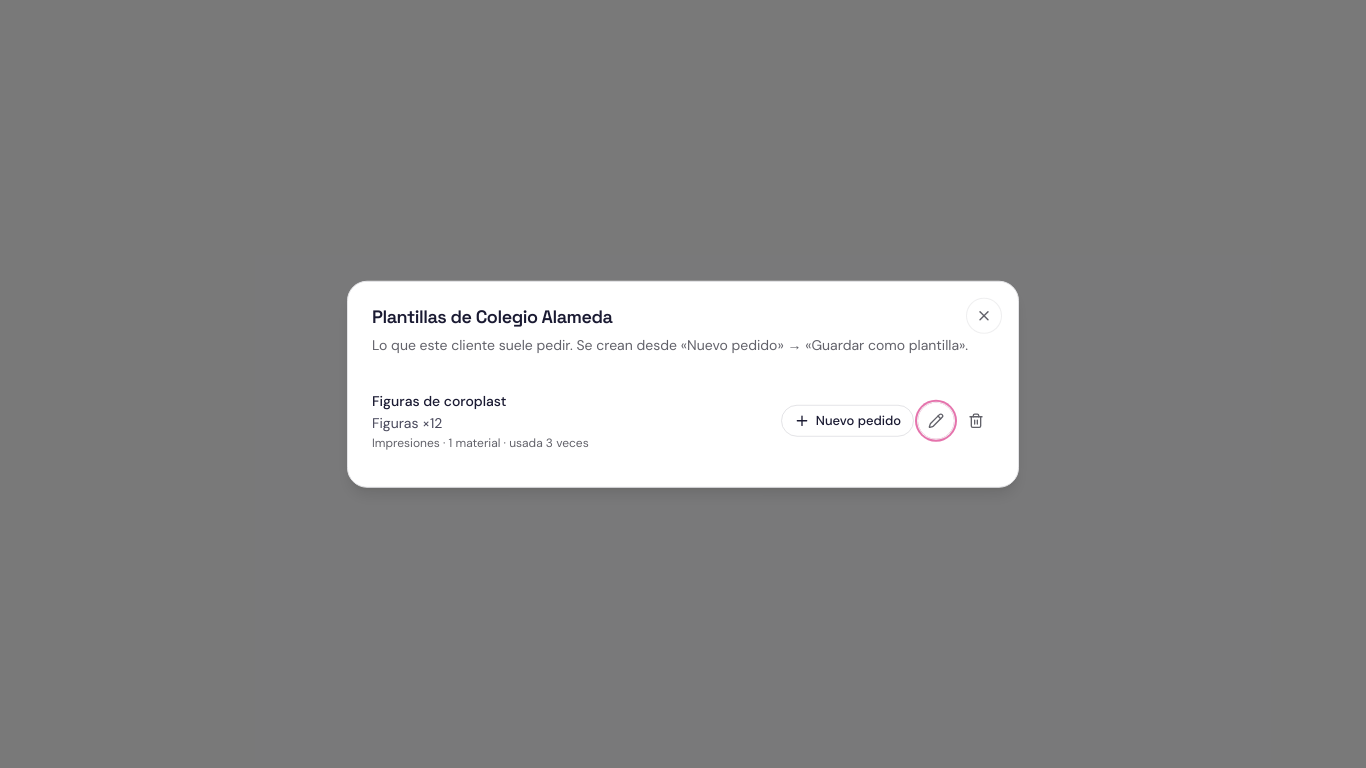
Test: ClientTemplatesDialog › un nombre repetido muestra el error del backend
Step 1. Click the button named "Renombrar Figuras de coroplast" → (936, 420), box x1=918 y1=402 x2=954 y2=438
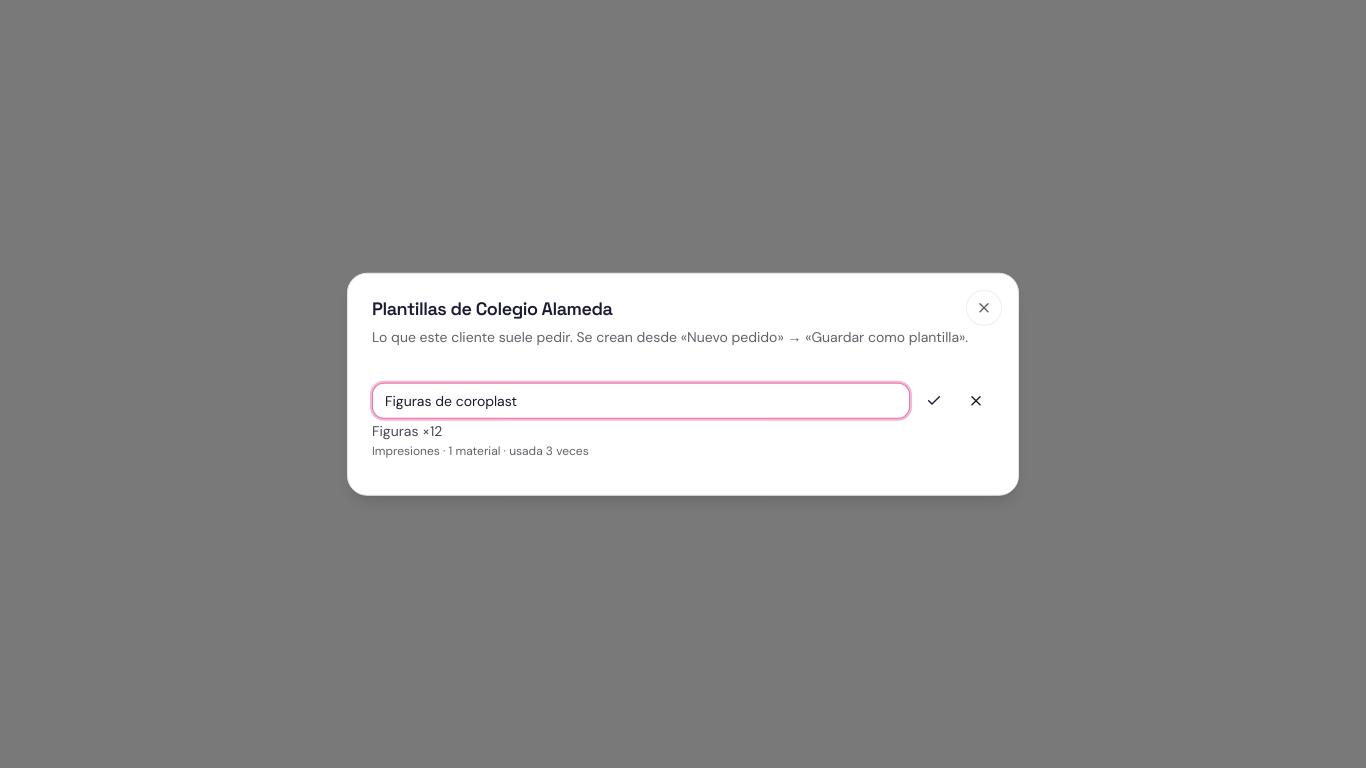
Step 2. Type " 2" into the field named "Nombre de la plantilla" → (641, 400), box x1=372 y1=382 x2=910 y2=418
Then press Enter
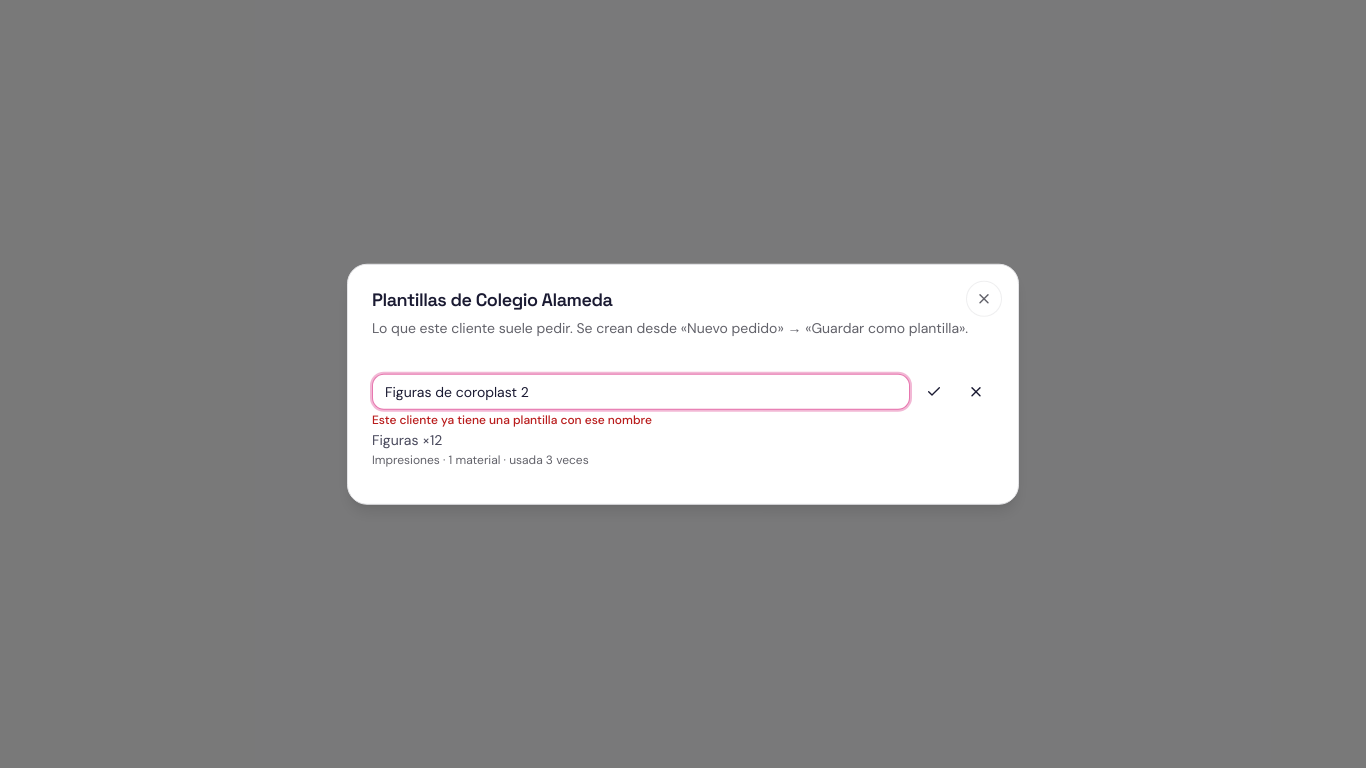
Expected: the message reads "Este cliente ya tiene una plantilla con ese nombre", x1=372 y1=411 x2=652 y2=427
